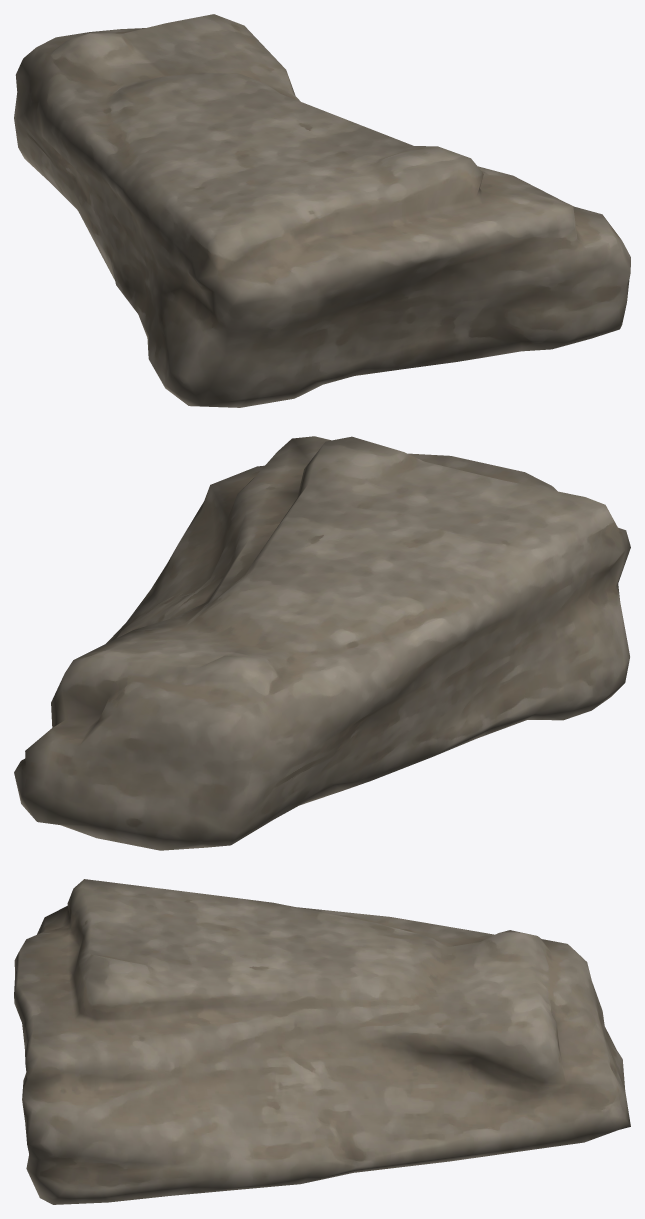
File: Rock_1.fbx
The picture shows the model from 3 angles, top to bottom: view 1: azimuth 30°, elevation 25°; view 2: azimuth 150°, elevation 25°; view 3: azimuth 270°, elevation 25°; orthographic projection. The views are drawn at different scales.
Parts seen in each view (by area): view 1: Rock_1; view 2: Rock_1; view 3: Rock_1.
Boxes of the visible parts, x1,y1,x2,y2 form: Rock_1: (14, 14, 630, 407); Rock_1: (14, 436, 630, 850); Rock_1: (14, 879, 630, 1204).
Size of the model in its own units: 487 by 207 by 671.
Materials: 1 (1 with a texture image).
